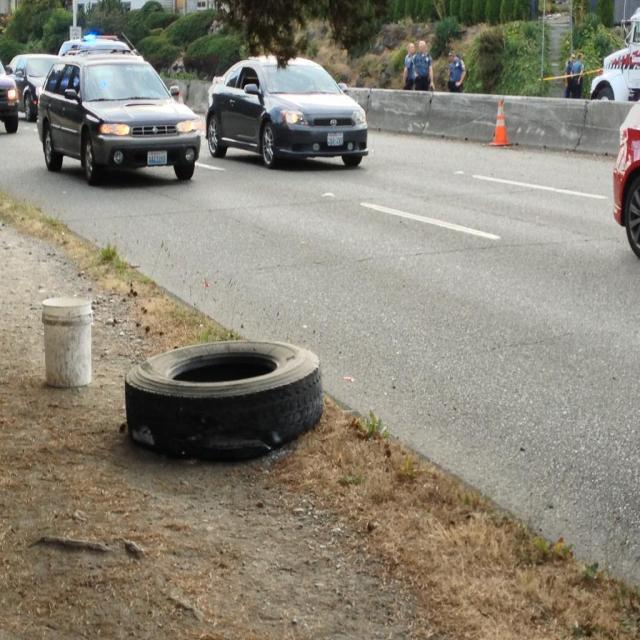car: (33, 47, 199, 181), (202, 52, 371, 170)
